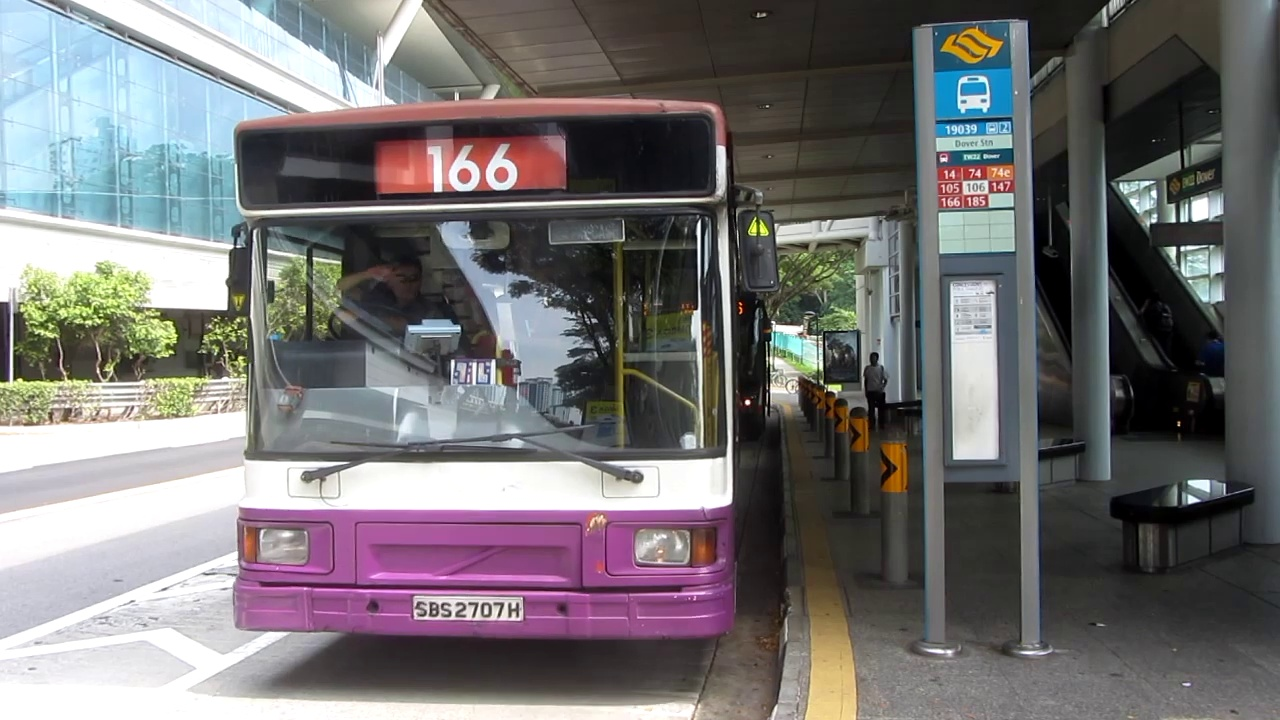bus panel: (371, 134, 569, 197)
